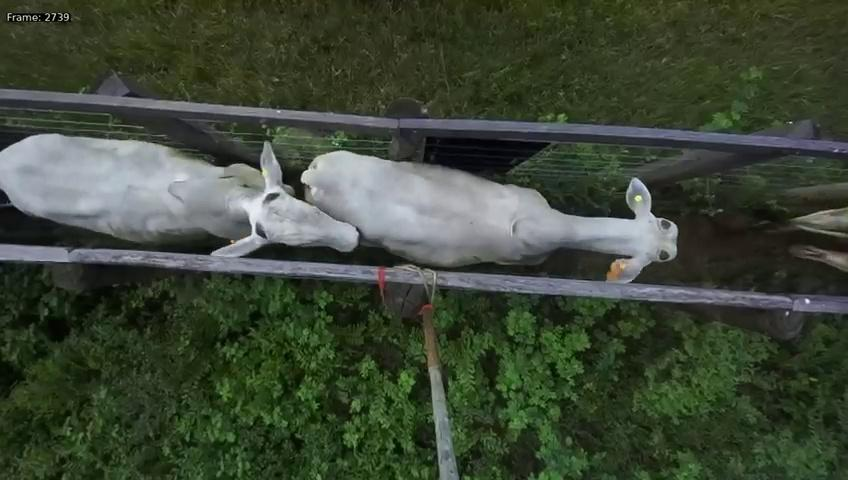cattle: (298, 119, 678, 281), (0, 130, 373, 260)
